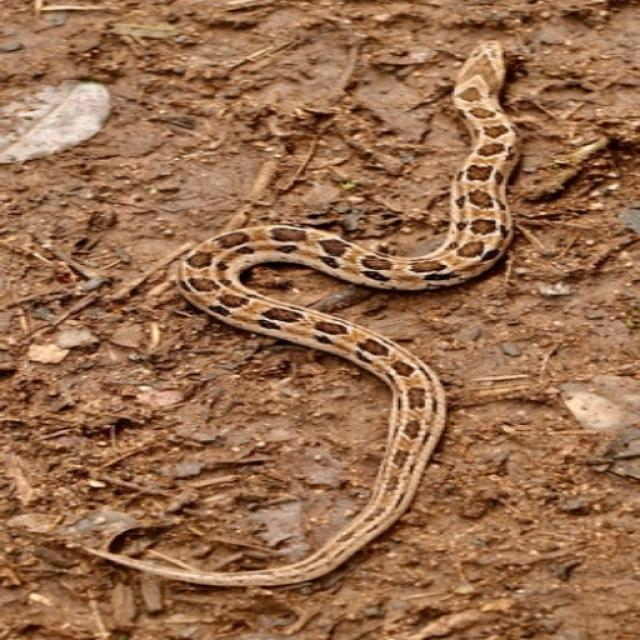snake: (68, 32, 543, 596)
